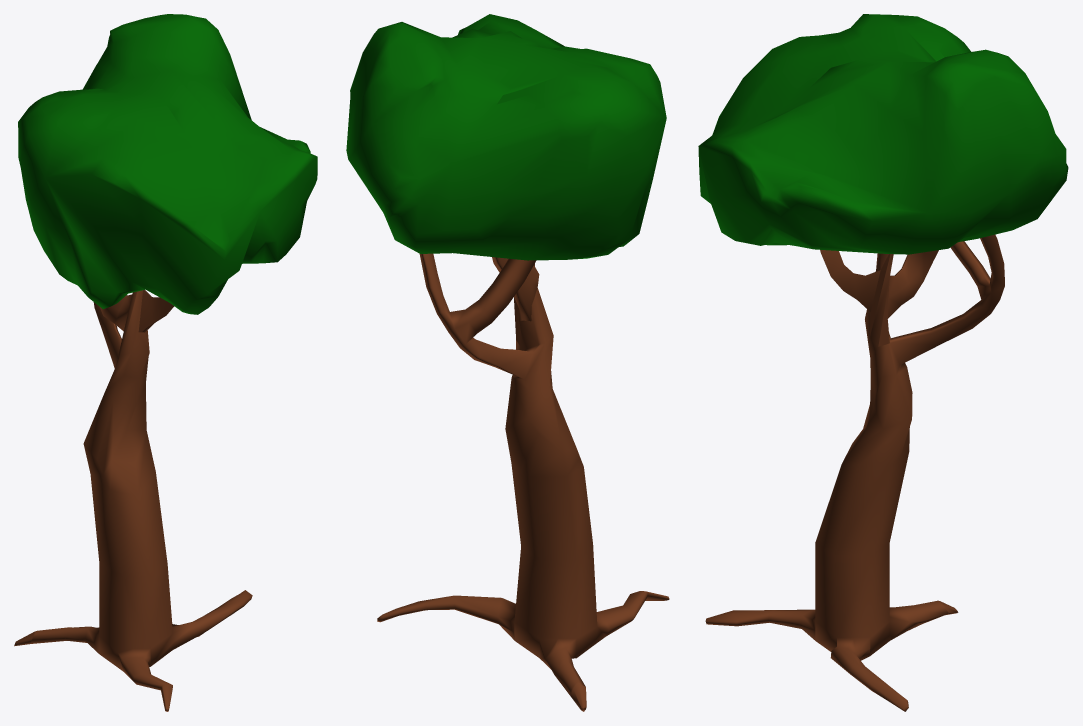
File: Tree4 Myles Lam.fbx
3 views of the same model, side by side, from view 1: azimuth 30°, elevation 25°; view 2: azimuth 150°, elevation 25°; view 3: azimuth 270°, elevation 25° (orthographic). The views are drawn at different scales.
Parts seen in each view (by area): view 1: group_pasted__TreeTop6, pCylinder1; view 2: group_pasted__TreeTop6, pCylinder1; view 3: group_pasted__TreeTop6, pCylinder1.
Part boxes in pixels (left/top/right/bottom): group_pasted__TreeTop6: left=18, top=14, right=317, bottom=314; pCylinder1: left=14, top=290, right=252, bottom=711; group_pasted__TreeTop6: left=346, top=14, right=666, bottom=260; pCylinder1: left=377, top=253, right=669, bottom=711; group_pasted__TreeTop6: left=698, top=14, right=1068, bottom=254; pCylinder1: left=705, top=234, right=1004, bottom=711.
Size of the model in its own units: 21.73 by 47.57 by 24.86.
